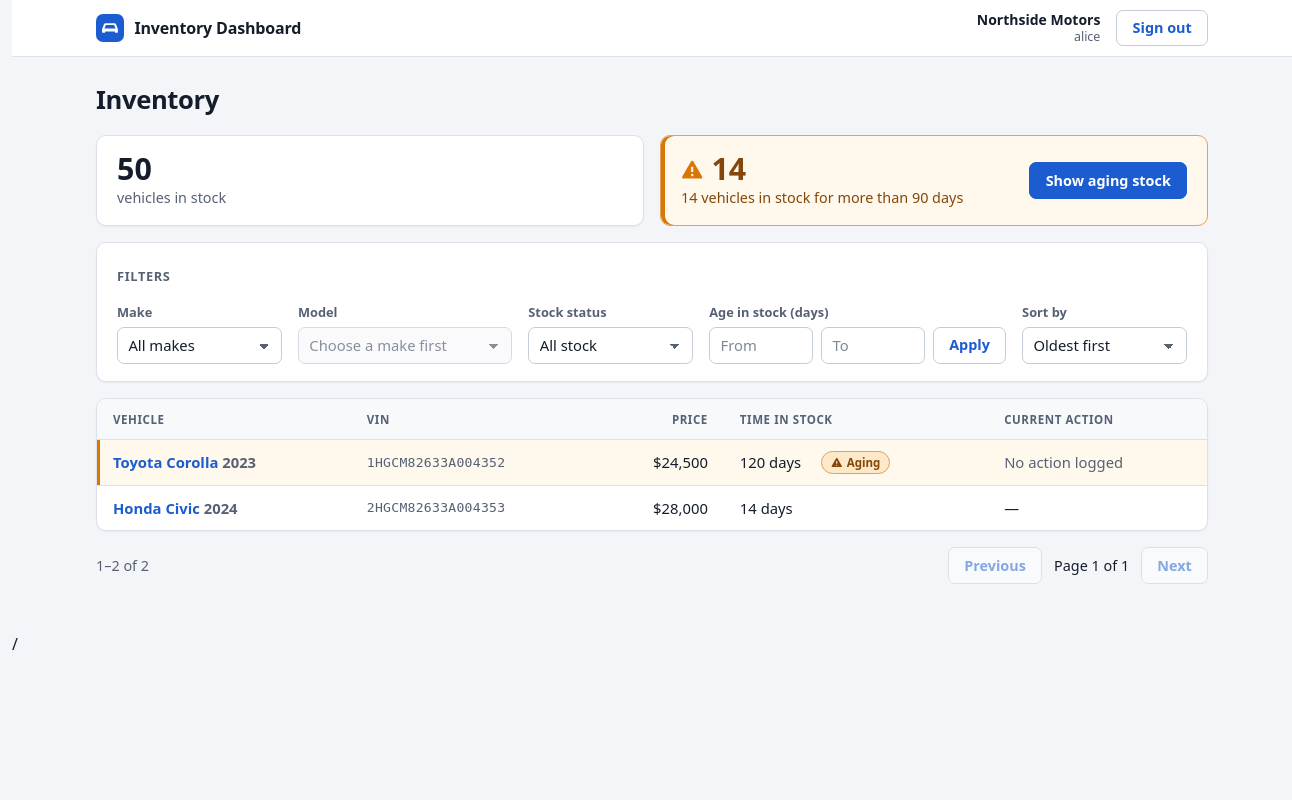
Scenario: signing out › clears the session and shows the login page
Expected: the heading "Inventory" is shown, [96,82,219,117]
Click the button "Sign out" at (1162, 28), box [1116,10,1208,46]
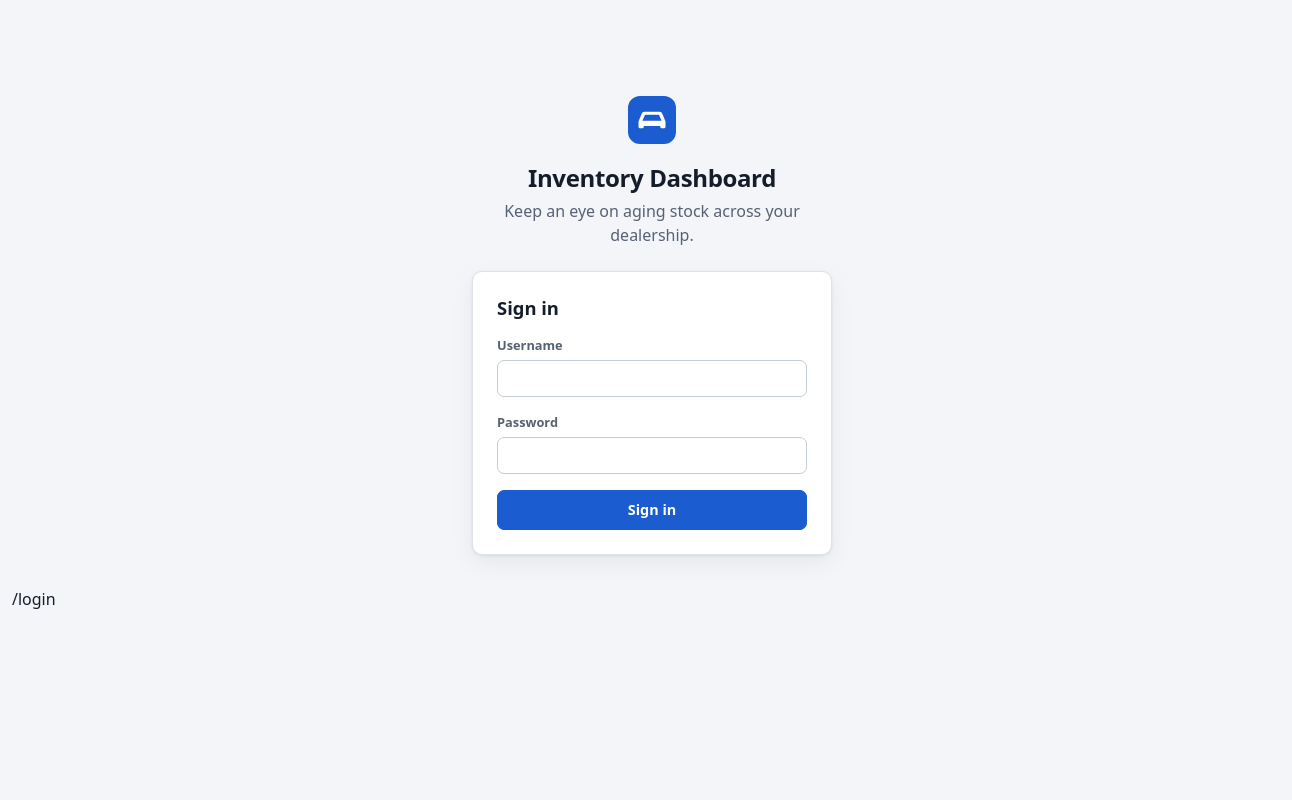
Expected: the heading "Sign in" is shown, [497,295,559,320]
